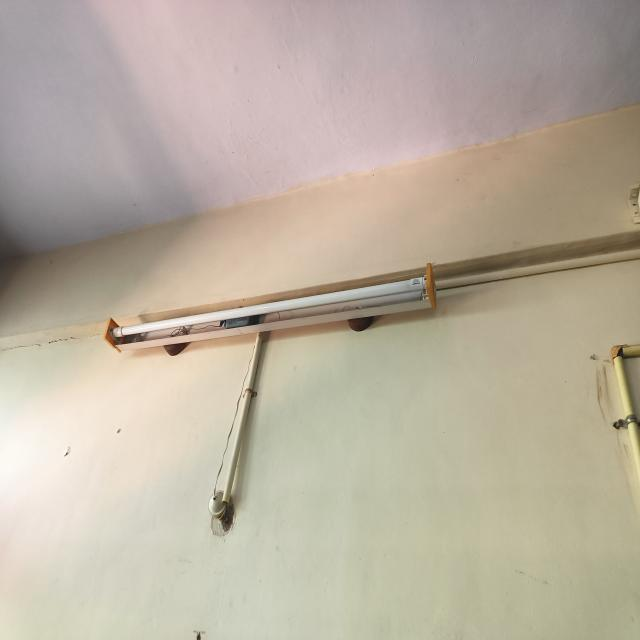tubelight_off: (107, 261, 438, 358)
